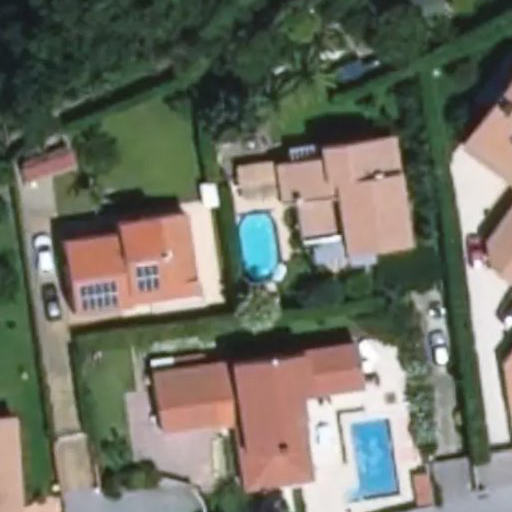pool: (233, 209, 277, 274)
